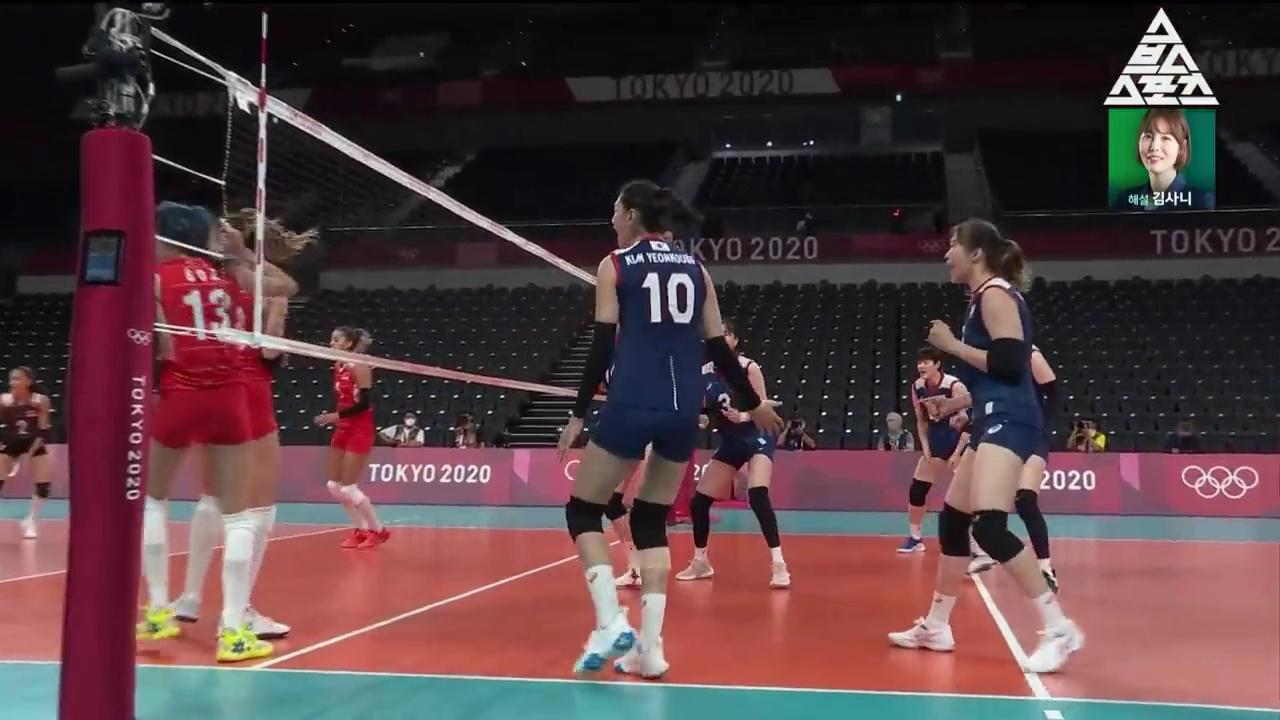player: (559, 185, 784, 676), (888, 223, 1084, 673), (136, 203, 297, 661), (166, 212, 318, 636), (676, 321, 791, 588), (896, 349, 1008, 553), (317, 328, 390, 549), (0, 367, 52, 538)
